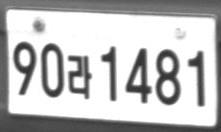0: (39, 41, 64, 99)
1: (184, 50, 212, 107), (98, 45, 123, 101)
4: (124, 47, 152, 103)
8: (154, 49, 181, 105)
9: (12, 40, 37, 95)
라: (67, 54, 92, 100)
